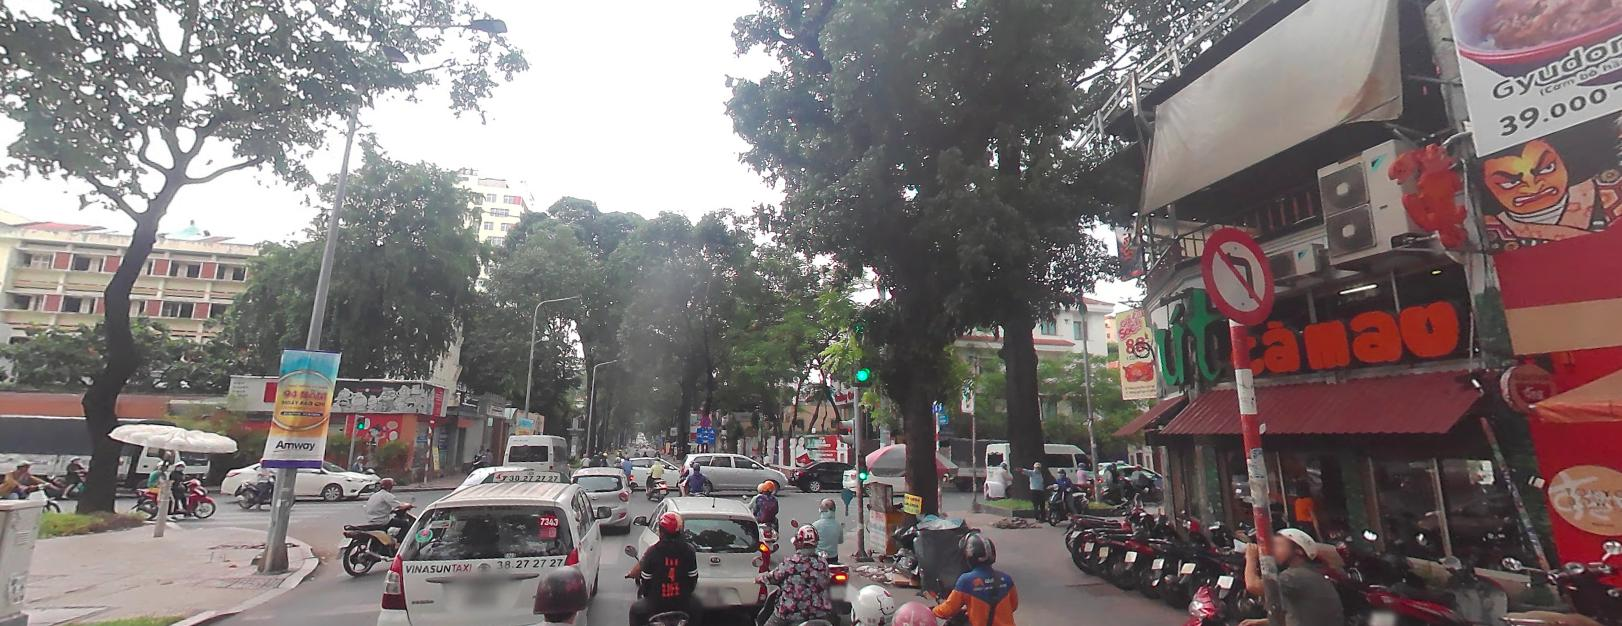Cam dung va do: (700, 414, 711, 425)
Cam re: (1199, 222, 1278, 324)
